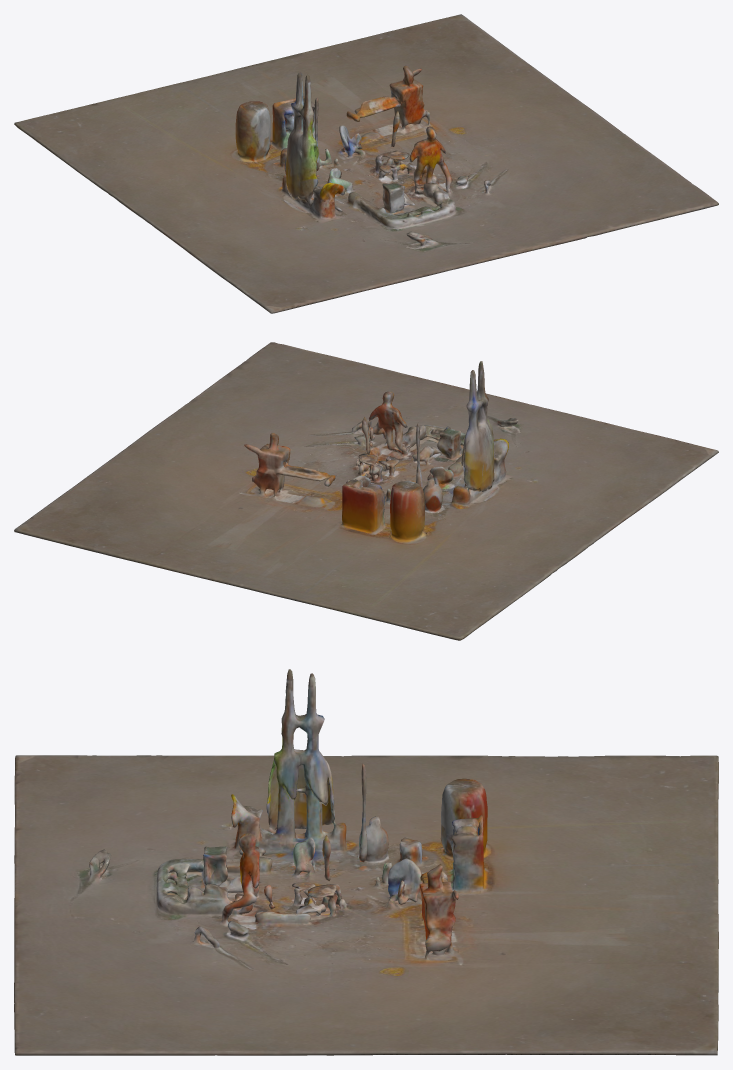
3 renders of one model, top to bottom at view 1: azimuth 30°, elevation 25°; view 2: azimuth 150°, elevation 25°; view 3: azimuth 270°, elevation 25°, orthographic. The views are drawn at different scales.
Visible parts, largest first — view 1: file1; view 2: file1; view 3: file1.
Part boxes in pixels (x1,y1,x2,y2): file1: (14, 14, 718, 313); file1: (14, 342, 718, 640); file1: (14, 669, 718, 1055).
Bounding box in the file's own units: 2.01 × 0.5687 × 2.01.
Materials: 1 (1 with a texture image).
